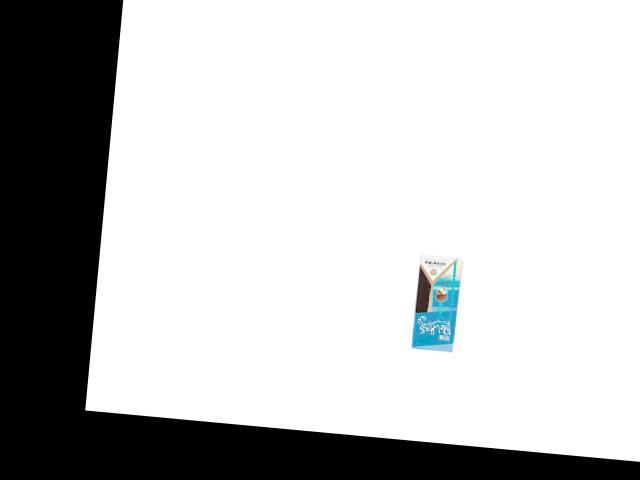chocolate: (408, 251, 464, 354)
